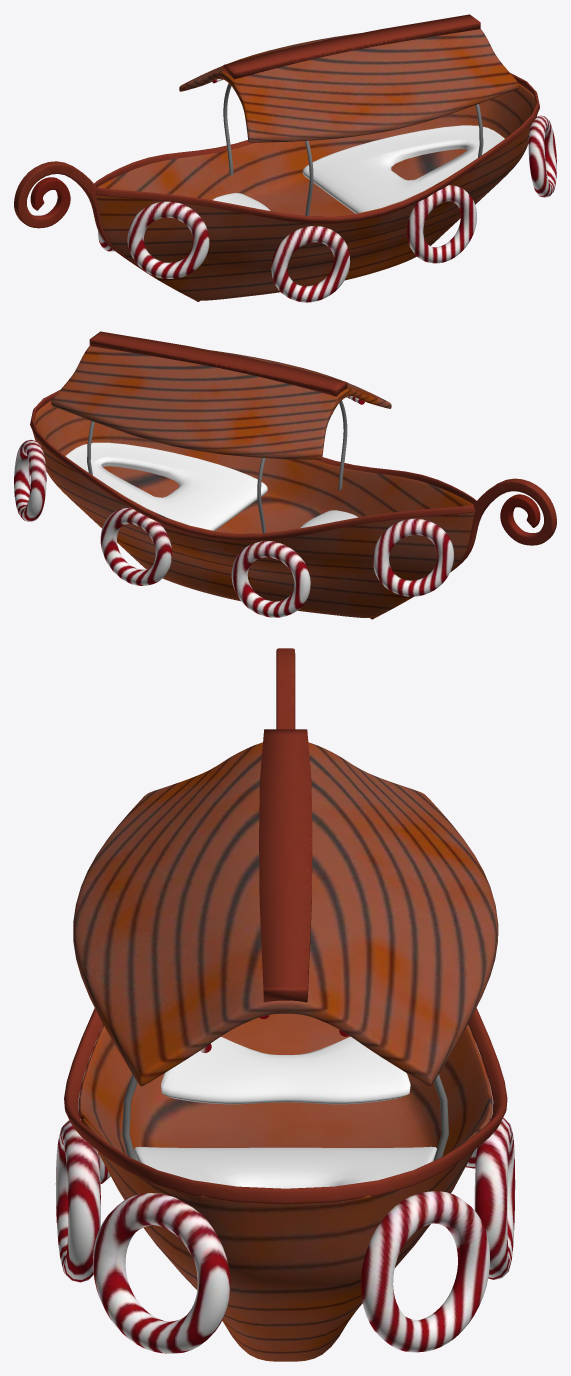
Rendered from sculpted-boat.glb.
3 renders of one model, top to bottom at view 1: azimuth 30°, elevation 25°; view 2: azimuth 150°, elevation 25°; view 3: azimuth 270°, elevation 25°, orthographic. The views are drawn at different scales.
Parts seen in each view (by area): view 1: Boat; view 2: Boat; view 3: Boat.
Boxes of the visible parts, box(x1,y1,x2,y2) form: Boat: box(14, 14, 556, 302); Boat: box(14, 331, 556, 619); Boat: box(55, 648, 515, 1361).
Bounding box in the file's own units: 6.9 × 2.86 × 2.64.
1 material, 1 textured.
